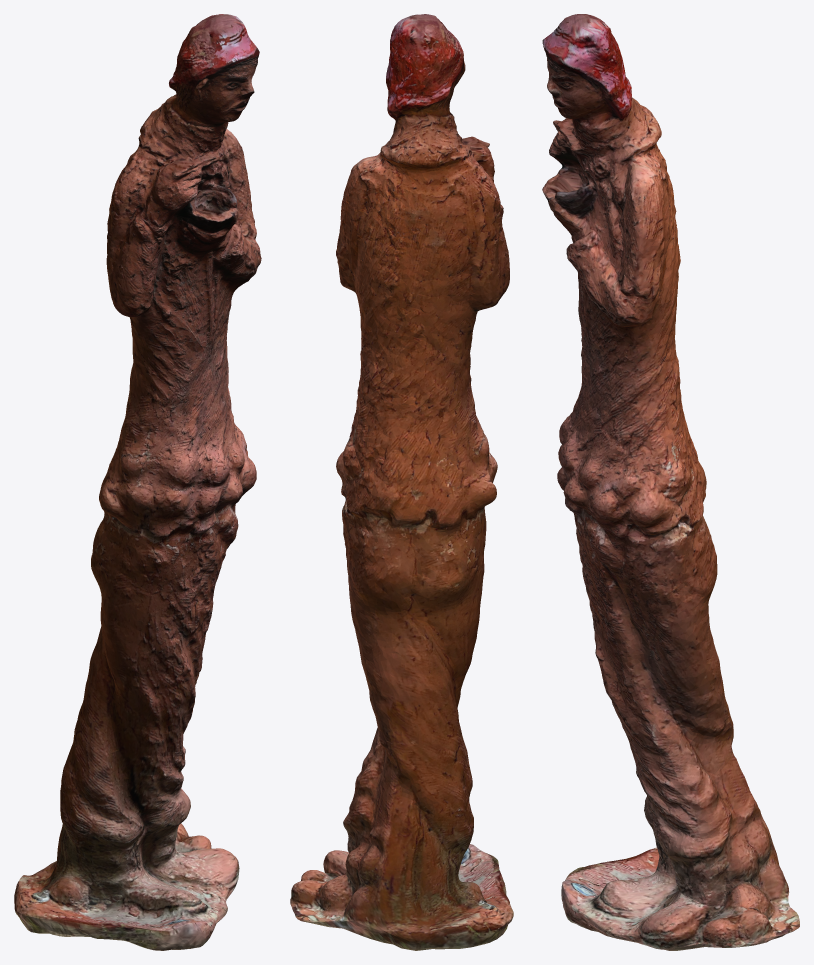
File: arancere.glb
3 views of the same model, side by side, from view 1: azimuth 30°, elevation 25°; view 2: azimuth 150°, elevation 25°; view 3: azimuth 270°, elevation 25° (orthographic). The views are drawn at different scales.
Size of the model in its own units: 0.6586 by 2.77 by 0.6998.
1 material, 1 textured.
